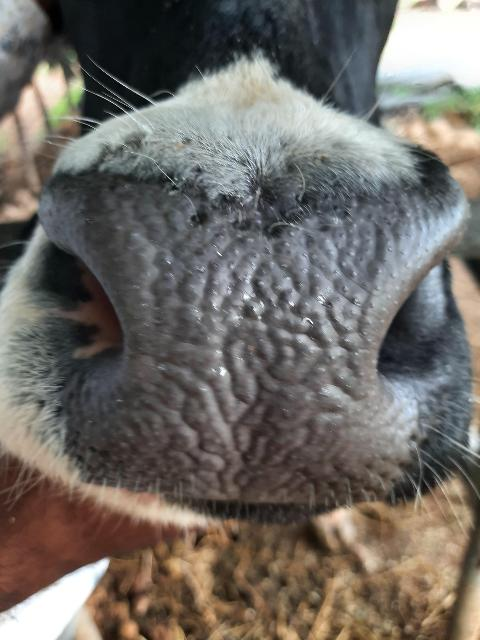Muzzle: (54, 193, 416, 489)
